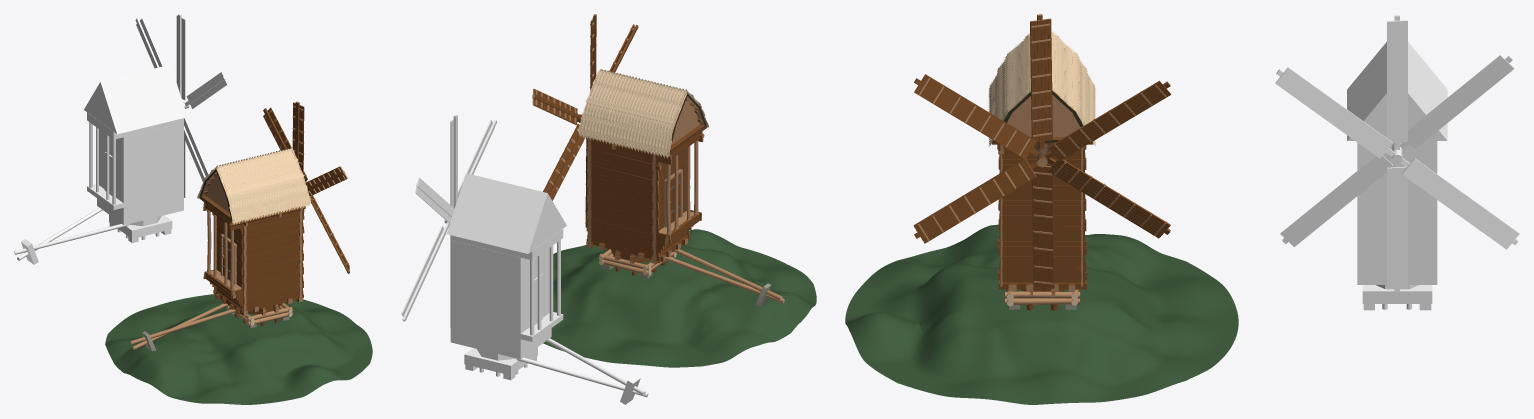
File: windmill_3164d92d.glb
The picture shows the model from 3 angles, left to right: view 1: azimuth 30°, elevation 25°; view 2: azimuth 150°, elevation 25°; view 3: azimuth 270°, elevation 25°; orthographic projection. The views are drawn at different scales.
Parts seen in each view (by area): view 1: Plane.001, Cube.001, Cube.041, Plane.003, Cube.003, Cube.030, Cube.024, Cylinder.042, Cube.023, Cylinder.019, Cube.028, Cube (+12 smaller); view 2: Plane.001, Cube.001, Cube.042, Plane.003, Cube.003, Cube.030, Cylinder.042, Cube.020, Cylinder.019, Cube.023, Cube, Cube.024 (+15 smaller); view 3: Plane.001, Cube.038, Cube.001, Cube.024, Cube.020, Cube.028, Plane.003, Cube.003, Cube.008, Cube.007, Cube.012, Cube.011 (+5 smaller).
Boxes of the visible parts, x1,y1,x2,y2 form: Plane.001: (105,294,372,404); Cube.001: (97,122,183,224); Cube.041: (229,207,304,312); Plane.003: (197,147,310,224); Cube.003: (84,64,187,134); Cube.030: (214,216,247,315); Cube.024: (263,107,349,273); Cylinder.042: (207,209,233,289); Cube.023: (200,163,240,219); Cylinder.019: (130,303,235,349); Cube.028: (292,101,304,174); Cube: (109,215,172,238); Plane.001: (543,229,816,367); Cube.001: (450,240,551,359); Cube.042: (586,138,671,260); Plane.003: (577,69,708,158); Cube.003: (447,173,566,253); Cube.030: (651,148,689,263); Cylinder.042: (666,140,698,233); Cube.020: (543,24,638,200); Cylinder.019: (666,249,784,303); Cube.023: (670,93,706,151); Cube: (464,347,537,375); Cube.024: (532,89,582,125); Plane.001: (845,224,1238,404); Cube.038: (997,144,1086,289); Cube.001: (1357,153,1437,284); Cube.024: (913,81,1170,243); Cube.020: (914,74,1170,238); Cube.028: (1030,14,1054,291); Plane.003: (988,31,1095,146); Cube.003: (1347,42,1447,140); Cube.008: (1402,158,1519,249); Cube.007: (1275,67,1392,158); Cube.012: (1280,155,1393,246); Cube.011: (1407,55,1514,149).
Size of the model in its own units: 2251 by 2212 by 3859.
